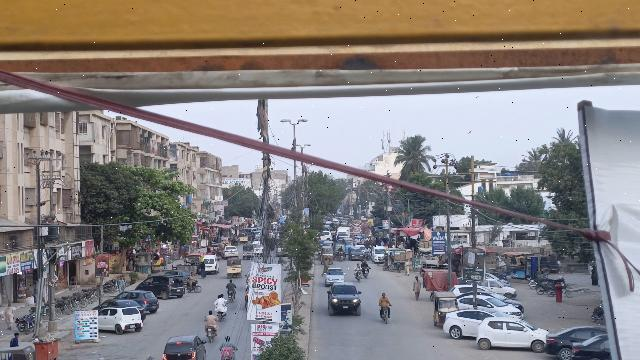Bike: (379, 305, 392, 326), (204, 326, 219, 343), (186, 280, 201, 294), (226, 289, 236, 304), (215, 310, 226, 321), (354, 271, 364, 282), (362, 267, 370, 279)
Car: (474, 313, 548, 353), (443, 308, 509, 340), (546, 325, 603, 359), (460, 294, 524, 318), (135, 274, 186, 300), (571, 328, 612, 360), (327, 282, 362, 318), (98, 306, 144, 333), (161, 334, 207, 360), (92, 299, 147, 318), (119, 290, 160, 315), (324, 267, 348, 285)
Person: (219, 335, 239, 352), (2, 302, 14, 330), (202, 308, 219, 327), (377, 290, 394, 308), (411, 274, 422, 301), (214, 292, 228, 310), (8, 329, 21, 348), (225, 279, 238, 293), (188, 270, 196, 289), (354, 262, 362, 273), (362, 260, 368, 268)
Rickshaw: (431, 290, 459, 331), (225, 256, 243, 278)
